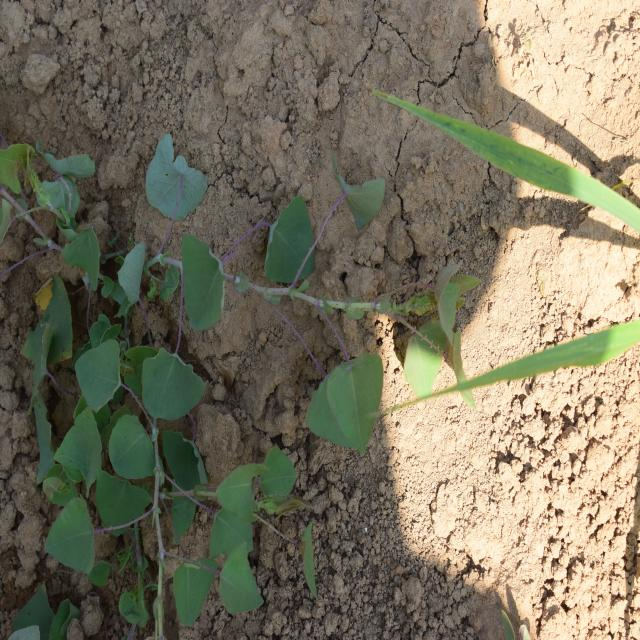Asiatic_Smartweed: (273, 160, 487, 450), (114, 132, 245, 413), (35, 342, 187, 556), (160, 432, 315, 613)
